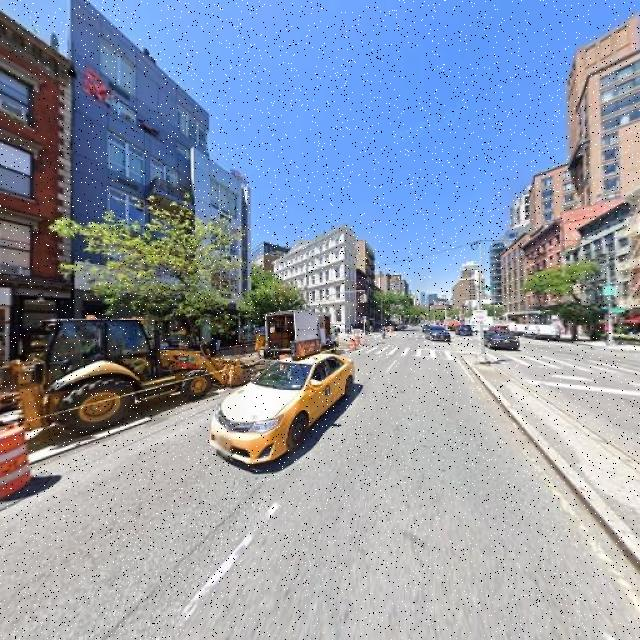Building: (72, 1, 250, 373), (1, 12, 64, 383), (275, 228, 357, 333), (585, 203, 627, 337), (528, 228, 559, 330), (504, 240, 523, 327), (565, 244, 578, 332), (367, 245, 374, 328), (637, 195, 640, 338), (358, 273, 364, 329)
